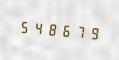eight: (46, 18, 59, 39)
five: (17, 16, 30, 37)
four: (31, 17, 44, 38)
nine: (88, 22, 101, 43)
seven: (74, 21, 87, 42)
six: (60, 20, 73, 41)
